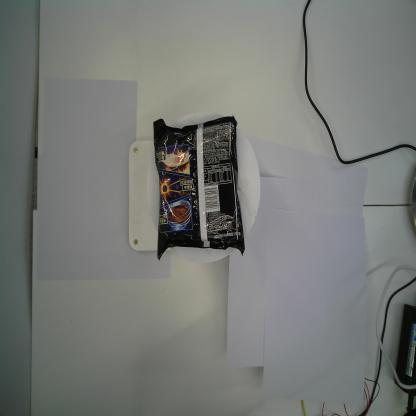Instant Noodles: (152, 115, 246, 261)
